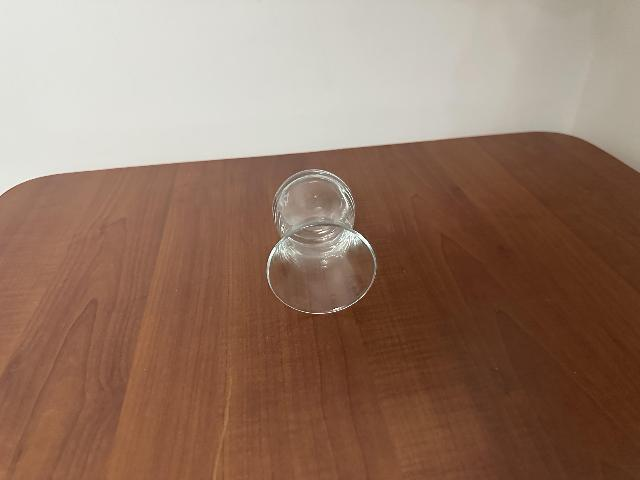Cam: (259, 173, 381, 313)
